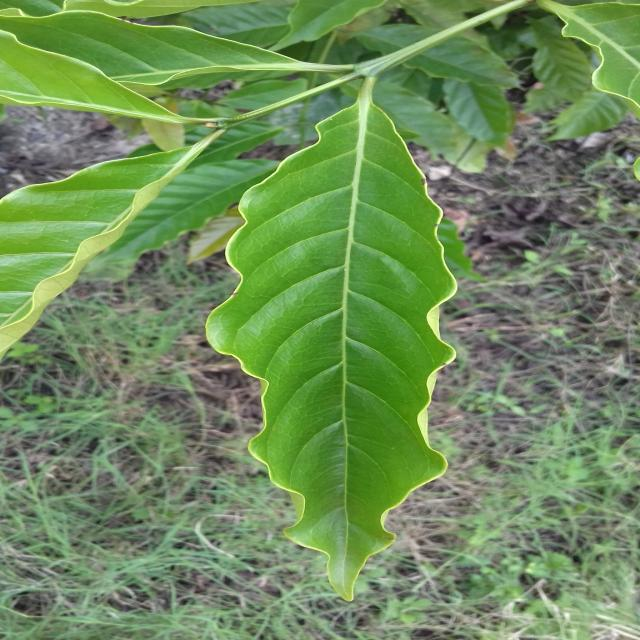Sanas: (204, 79, 464, 603)
